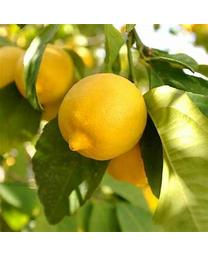lemon: (58, 74, 146, 162), (18, 45, 75, 102)
